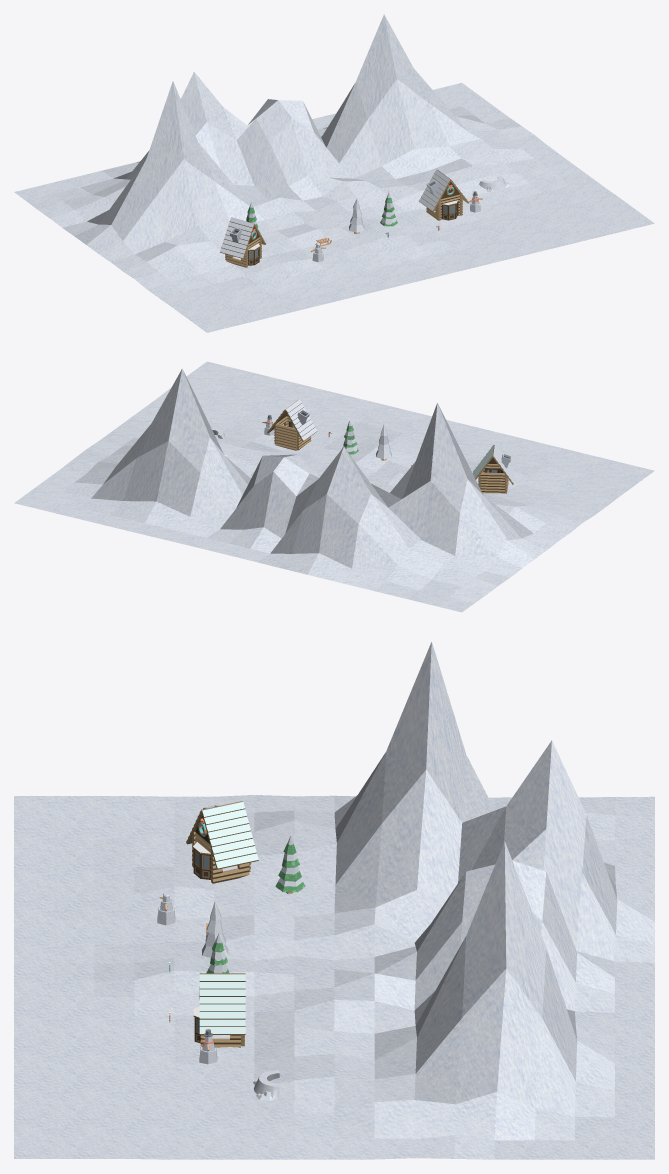
File: navidad-map.fbx
3 views of the same model, one above another, from view 1: azimuth 30°, elevation 25°; view 2: azimuth 150°, elevation 25°; view 3: azimuth 270°, elevation 25° (orthographic). The views are drawn at different scales.
Parts seen in each view (by area): view 1: group1; view 2: group1; view 3: group1.
Part boxes in pixels (x1,y1,x2,y2): group1: [14, 14, 654, 332]; group1: [14, 361, 654, 612]; group1: [14, 641, 654, 1159].
Size of the model in its own units: 2126 by 630 by 1586.
40 materials, 17 textured.
